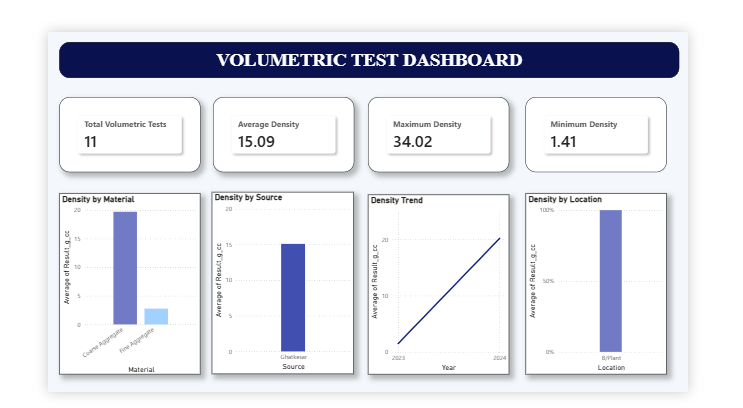

The dashboard page shown, as its layout file describes it:
{"tool":"powerbi","page":{"name":"VOLUMETRIC TESTS","canvas":[1280,720],"ordinal":2},"visuals":[{"type":"textbox","box":[21.7,20,1240,71.7],"z":0},{"type":"cardVisual","fields":{"Data":["CountNonNull(VOLUMETRIC TESTS.Record_ID)"]},"box":[22.5,130,282.5,150],"z":1000},{"type":"clusteredColumnChart","title":"Density by Source","fields":{"Category":["VOLUMETRIC TESTS.Source"],"Y":["Avg(VOLUMETRIC TESTS.Result_g_cc)"]},"box":[328,320,284,364],"z":2000},{"type":"cardVisual","fields":{"Data":["Avg(VOLUMETRIC TESTS.Result_g_cc)"]},"box":[330,130,282.5,150],"z":3000},{"type":"cardVisual","fields":{"Data":["Max(VOLUMETRIC TESTS.Result_g_cc)"]},"box":[640,130,282,150],"z":4000},{"type":"cardVisual","fields":{"Data":["Min(VOLUMETRIC TESTS.Result_g_cc)"]},"box":[955,130,282,150],"z":5000},{"type":"clusteredColumnChart","title":"Density by Material","fields":{"Category":["VOLUMETRIC TESTS.Material"],"Y":["Avg(VOLUMETRIC TESTS.Result_g_cc)"]},"box":[22.5,322.5,282.5,362.5],"z":6000},{"type":"lineChart","title":"Density Trend","fields":{"Category":["VOLUMETRIC TESTS.Date.Variation.Date Hierarchy.Year","VOLUMETRIC TESTS.Date.Variation.Date Hierarchy.Quarter","VOLUMETRIC TESTS.Date.Variation.Date Hierarchy.Month","VOLUMETRIC TESTS.Date.Variation.Date Hierarchy.Day"],"Y":["Avg(VOLUMETRIC TESTS.Result_g_cc)"]},"box":[640,325,282.5,360],"z":7000},{"type":"hundredPercentStackedColumnChart","title":"Density by Location","fields":{"Category":["VOLUMETRIC TESTS.Location"],"Y":["Avg(VOLUMETRIC TESTS.Result_g_cc)"]},"box":[955,322.5,282.5,362.5],"z":8000}]}

Visuals, with their boxes in screenshot pixels (x1, y1, x2, y2), scaled from the page's 1280x720 canvas onto the 743x408 screenshot:
textbox: region(13, 11, 732, 52)
cardVisual - CountNonNull(VOLUMETRIC TESTS.Record_ID): region(13, 74, 177, 159)
"Density by Source" clusteredColumnChart: region(190, 181, 355, 388)
cardVisual - Avg(VOLUMETRIC TESTS.Result_g_cc): region(192, 74, 356, 159)
cardVisual - Max(VOLUMETRIC TESTS.Result_g_cc): region(372, 74, 535, 159)
cardVisual - Min(VOLUMETRIC TESTS.Result_g_cc): region(554, 74, 718, 159)
"Density by Material" clusteredColumnChart: region(13, 183, 177, 388)
"Density Trend" lineChart: region(372, 184, 535, 388)
"Density by Location" hundredPercentStackedColumnChart: region(554, 183, 718, 388)
